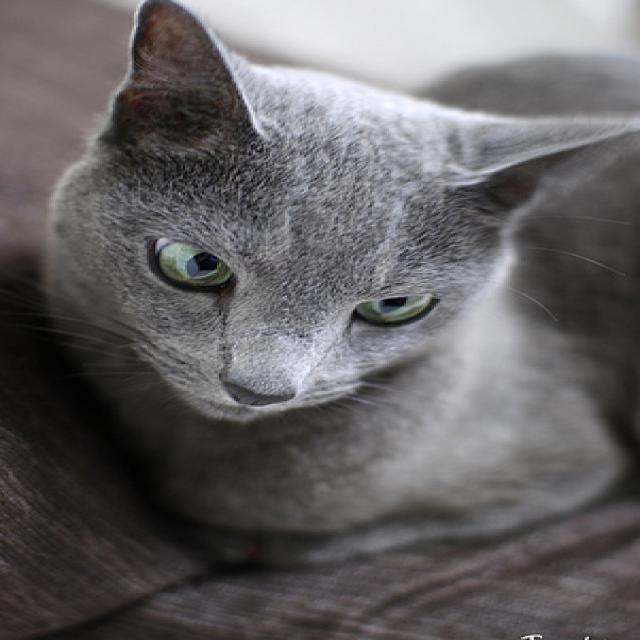Russian Blue: (40, 0, 640, 569)
